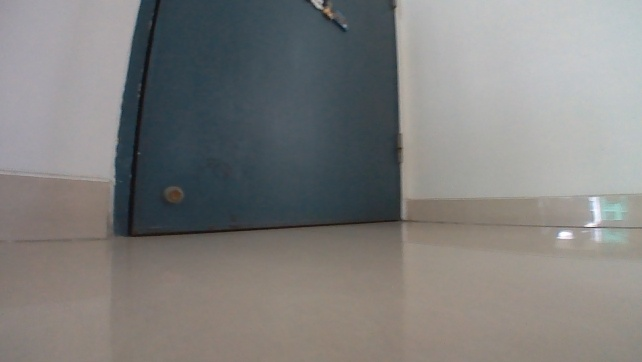door_anno: (110, 0, 403, 238)
